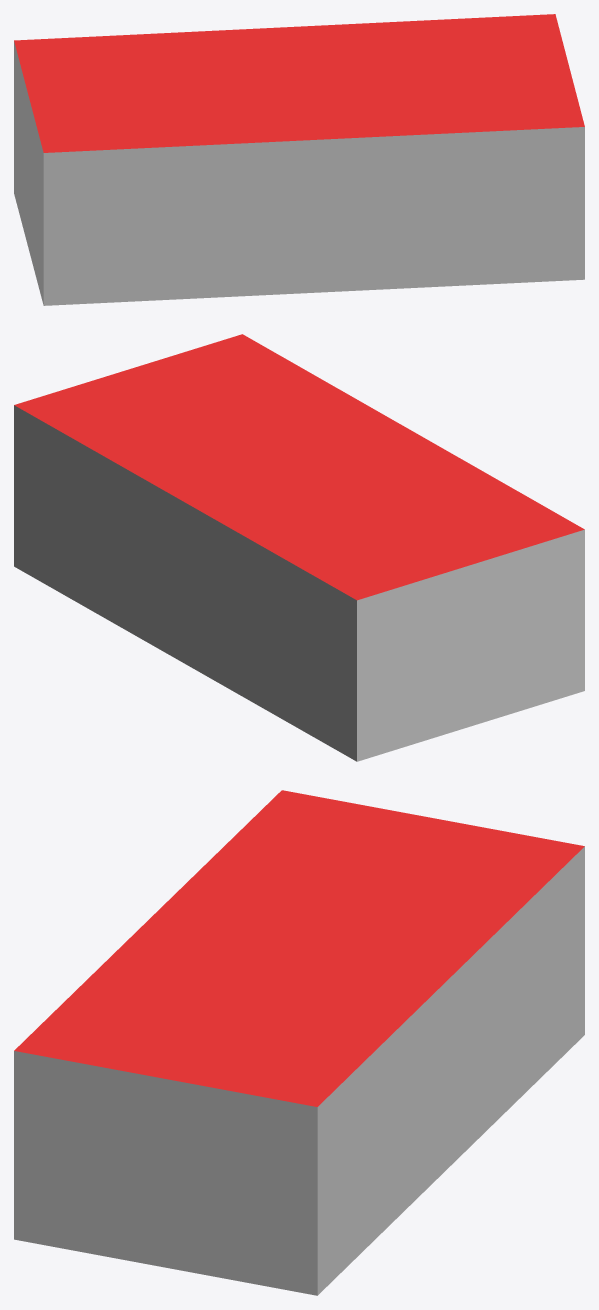
File: DEBY_LOD2_4908062.dae
The picture shows the model from 3 angles, top to bottom: view 1: azimuth 30°, elevation 25°; view 2: azimuth 150°, elevation 25°; view 3: azimuth 270°, elevation 25°; orthographic projection. The views are drawn at different scales.
Size of the model in its own units: 14.53 by 11.06 by 4.03.
